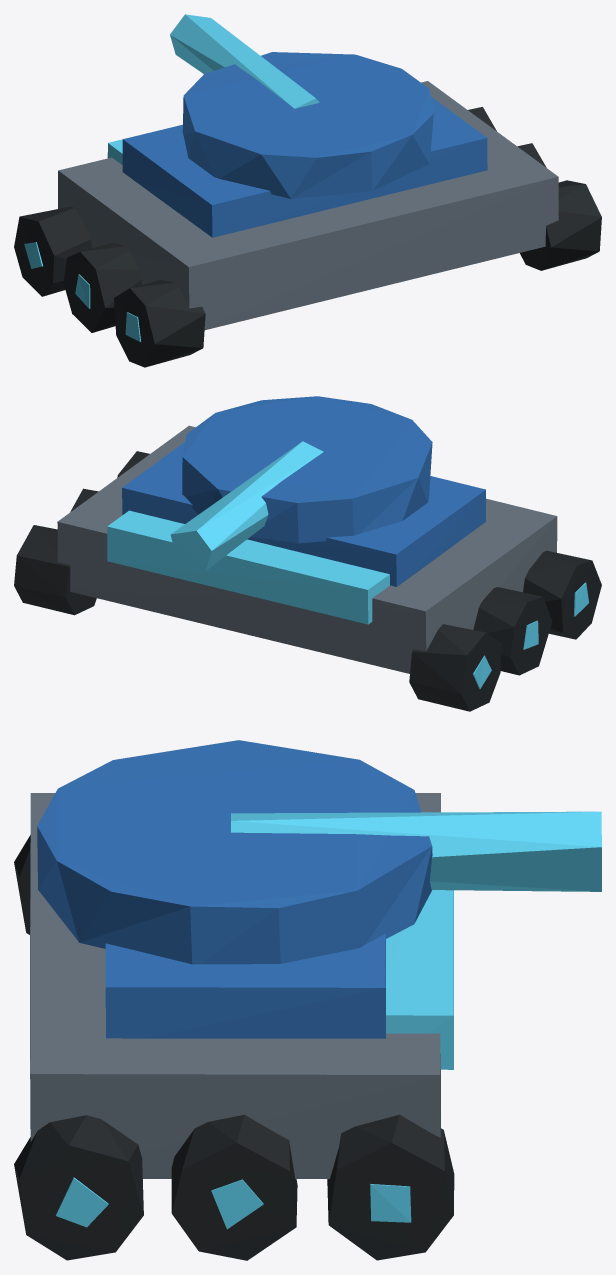
The model's file is SM_Alliance_AL_BulwarkMBT_LOD3.fbx.
The picture shows the model from 3 angles, top to bottom: view 1: azimuth 30°, elevation 25°; view 2: azimuth 150°, elevation 25°; view 3: azimuth 270°, elevation 25°; orthographic projection. The views are drawn at different scales.
Visible parts, largest first — view 1: LOD03_SM_Alliance_AL_BulwarkMBT; view 2: LOD03_SM_Alliance_AL_BulwarkMBT; view 3: LOD03_SM_Alliance_AL_BulwarkMBT.
Boxes of the visible parts, x1=… form: LOD03_SM_Alliance_AL_BulwarkMBT: x1=14, y1=14, x2=601, y2=367; LOD03_SM_Alliance_AL_BulwarkMBT: x1=14, y1=396, x2=601, y2=711; LOD03_SM_Alliance_AL_BulwarkMBT: x1=14, y1=740, x2=601, y2=1260.
Bounding box in the file's own units: 504 × 364 × 187.
